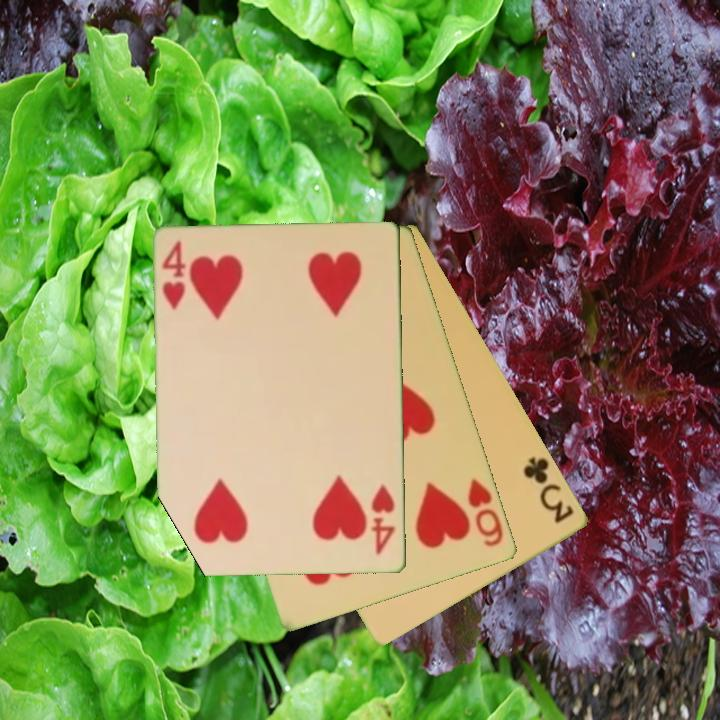3c: (520, 453, 578, 526)
4h: (367, 481, 398, 558), (159, 237, 189, 313)
6h: (464, 475, 507, 550)
